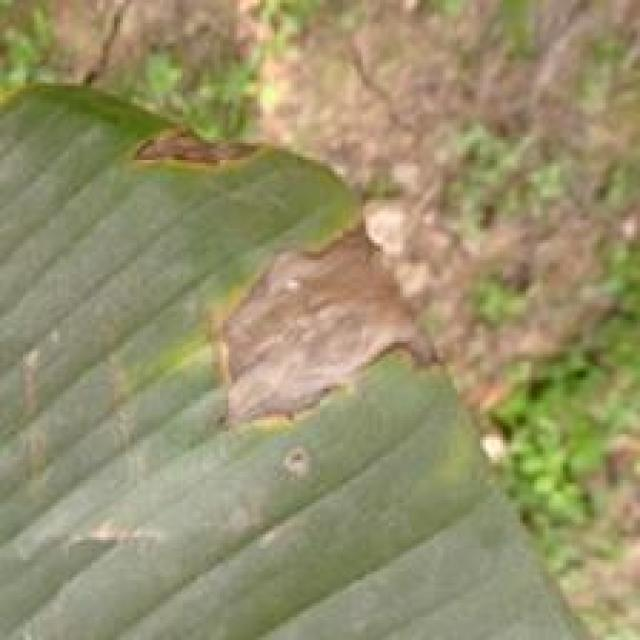Bacterial_spot: (187, 212, 461, 434), (2, 332, 63, 492), (117, 116, 275, 177), (90, 341, 150, 488), (58, 514, 180, 558), (277, 434, 321, 494)
